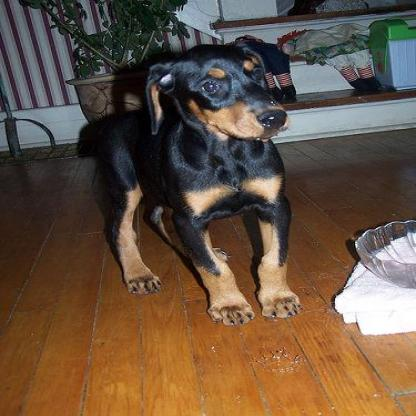Doberman: (74, 42, 301, 326)
